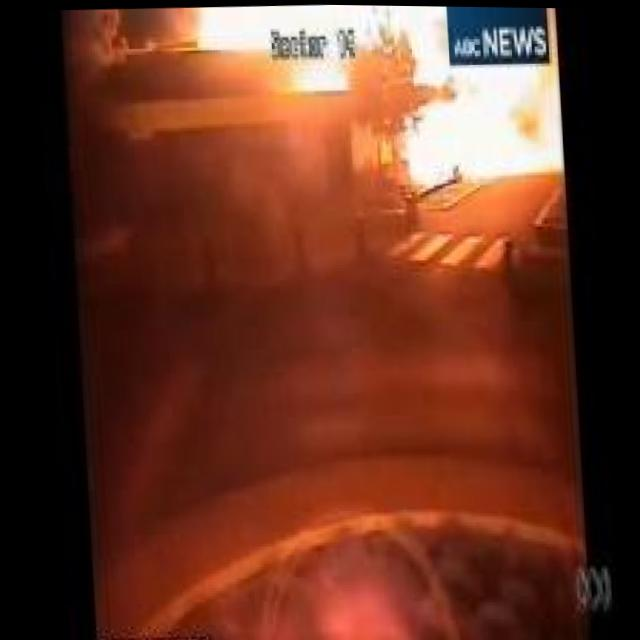fire: (389, 45, 567, 198), (189, 2, 451, 95)
